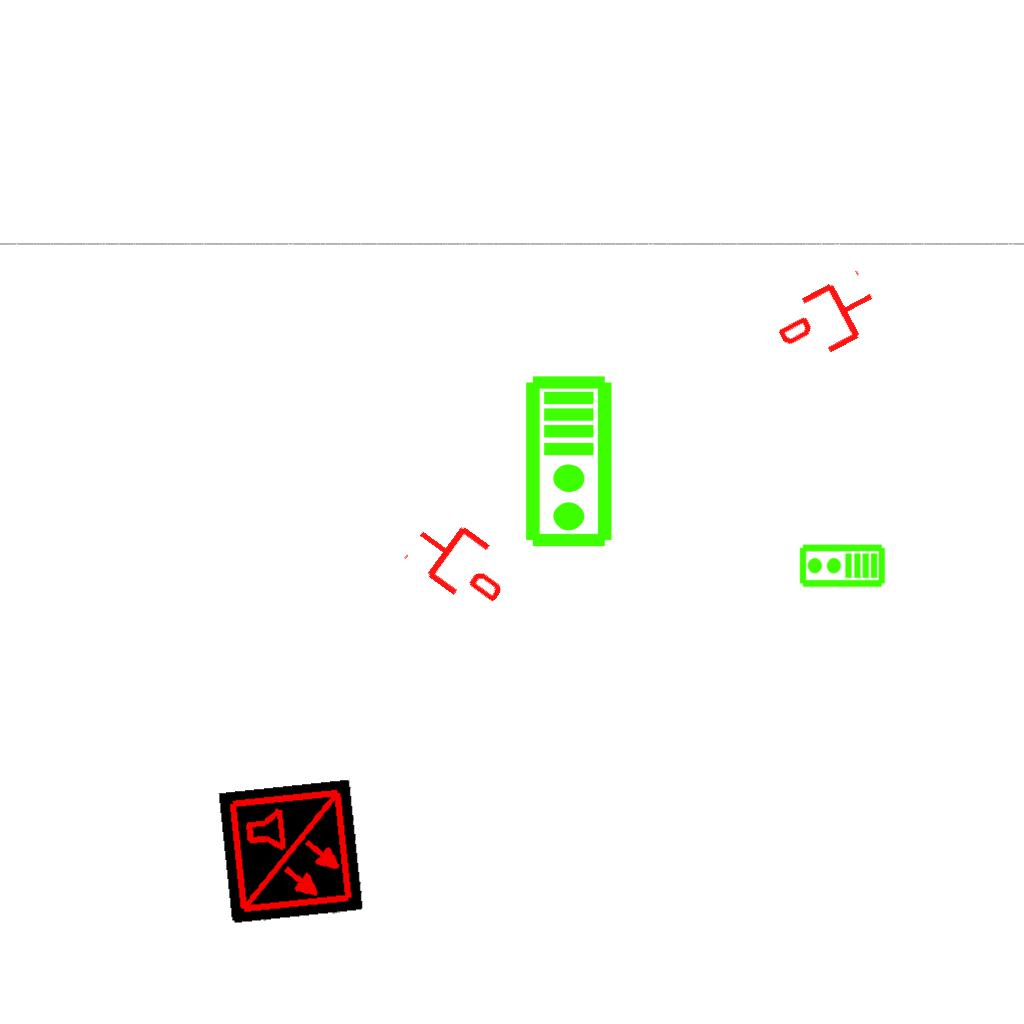Datenanschluss_einfach: (399, 504, 522, 620), (768, 265, 889, 373)
Gegensprechanlage_mit_Video: (523, 374, 618, 550), (798, 543, 886, 590)
OKW_Multisensormelder_(Kombination_optischer_Rauch-Kahlenmonoxid_Waerme-Melder): (218, 779, 364, 925)
